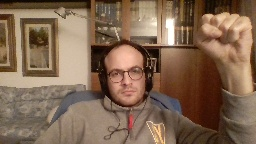Pugno: (189, 7, 255, 63)
